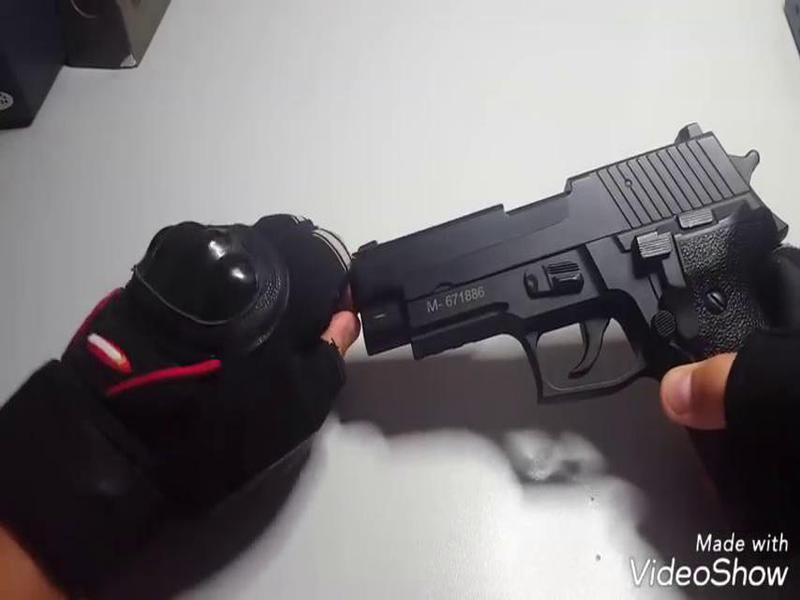Pistola: (348, 112, 800, 414)
